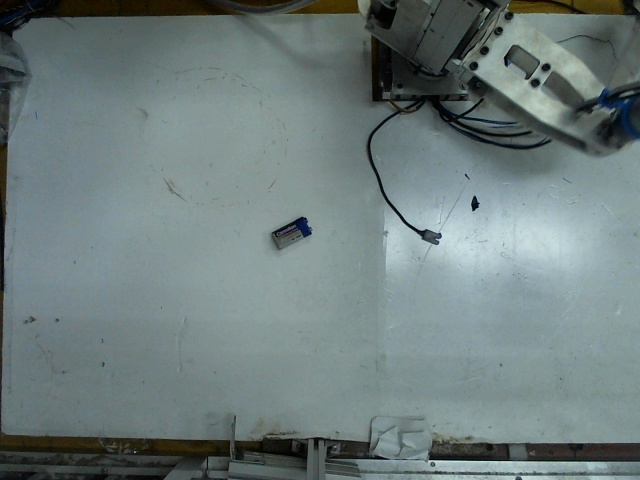battery: (267, 218, 314, 248)
